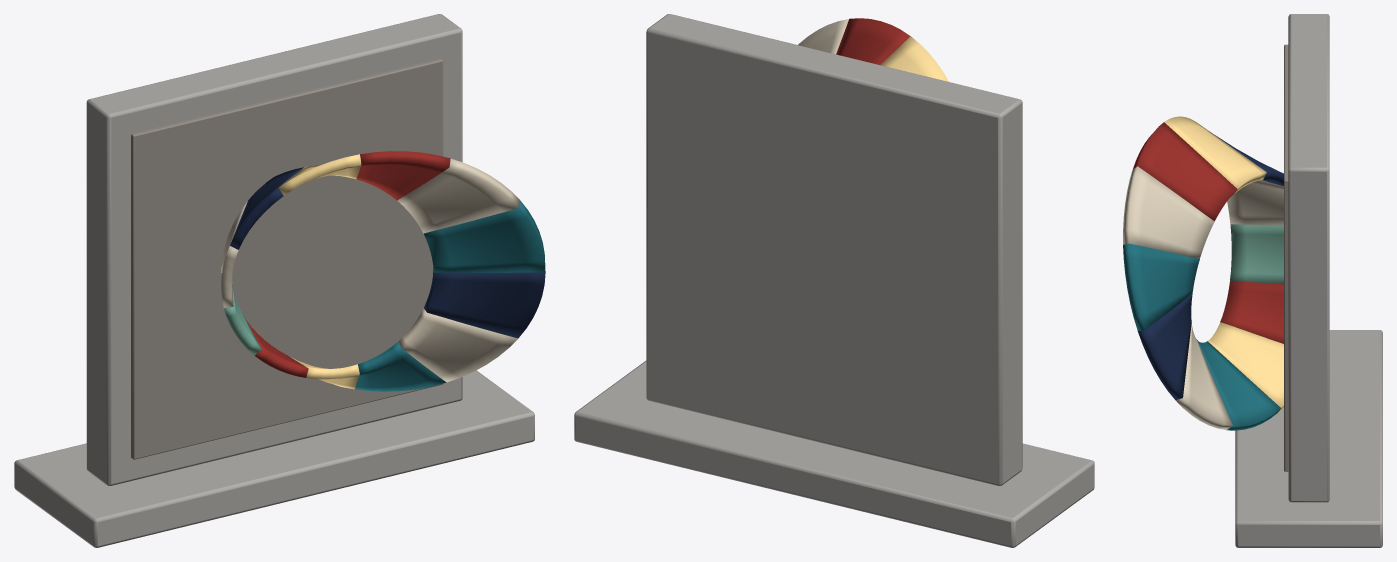
File: mobius.glb
3 renders of one model, left to right at view 1: azimuth 30°, elevation 25°; view 2: azimuth 150°, elevation 25°; view 3: azimuth 270°, elevation 25°, orthographic. The views are drawn at different scales.
Parts seen in each view (by area): view 1: inset, square, plinth, band, band.011, band.001, band.010, band.002, band.009, band.004, band.003, band.007 (+3 smaller); view 2: square, plinth, band.002, band.003, band.001; view 3: square, plinth, band.001, band.002, band, band.008, band.011, band.006, band.009, band.007, band.003, band.010 (+3 smaller).
Boxes of the visible parts, left/top/right/bottom form: inset: left=131, top=58, right=443, bottom=459; square: left=86, top=14, right=462, bottom=485; plinth: left=14, top=370, right=534, bottom=547; band: left=424, top=201, right=545, bottom=272; band.011: left=424, top=269, right=545, bottom=338; band.001: left=397, top=158, right=520, bottom=233; band.010: left=398, top=308, right=517, bottom=382; band.002: left=356, top=151, right=450, bottom=200; band.009: left=355, top=342, right=446, bottom=391; band.004: left=230, top=167, right=303, bottom=249; band.003: left=278, top=154, right=361, bottom=195; band.007: left=247, top=321, right=308, bottom=377; square: left=646, top=14, right=1022, bottom=485; plinth: left=574, top=360, right=1094, bottom=547; band.002: left=836, top=18, right=910, bottom=64; band.003: left=880, top=36, right=948, bottom=81; band.001: left=798, top=19, right=848, bottom=54; square: left=1288, top=14, right=1329, bottom=502; plinth: left=1235, top=330, right=1382, bottom=547; band.001: left=1123, top=166, right=1214, bottom=258; band.002: left=1133, top=122, right=1237, bottom=221; band: left=1123, top=243, right=1199, bottom=330; band.008: left=1207, top=322, right=1283, bottom=412; band.011: left=1138, top=294, right=1192, bottom=400; band.006: left=1230, top=224, right=1283, bottom=284; band.009: left=1197, top=340, right=1280, bottom=430; band.007: left=1220, top=281, right=1283, bottom=343; band.003: left=1164, top=116, right=1266, bottom=193; band.010: left=1176, top=323, right=1232, bottom=429.
Size of the model in its own units: 1.55 by 1.35 by 0.88.
